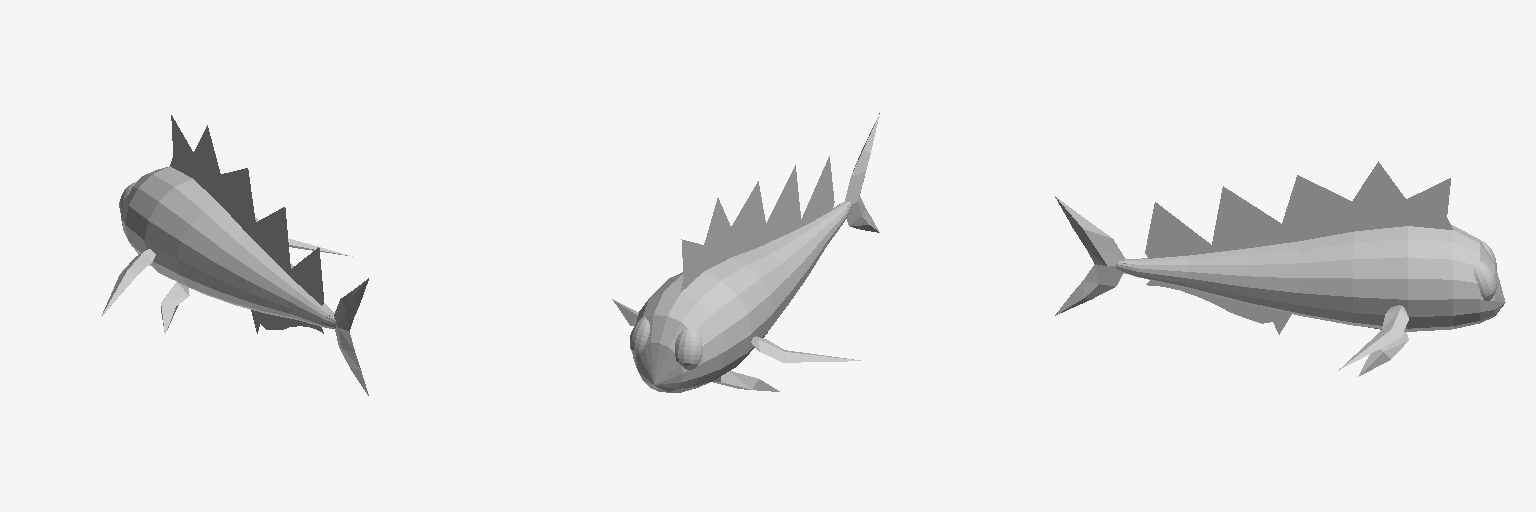
File: mahi-mahi-domal.obj
The picture shows the model from 3 angles: view 1: azimuth 30°, elevation 25°; view 2: azimuth 150°, elevation 25°; view 3: azimuth 270°, elevation 25°; orthographic projection.
Visible parts, largest first — view 1: Fish; view 2: Fish; view 3: Fish.
Part boxes in pixels (x1,y1,x2,y2): Fish: (101, 115, 368, 395); Fish: (612, 113, 879, 392); Fish: (1055, 161, 1505, 376).
Bounding box in the file's own units: 2.65 × 1.91 × 4.1.